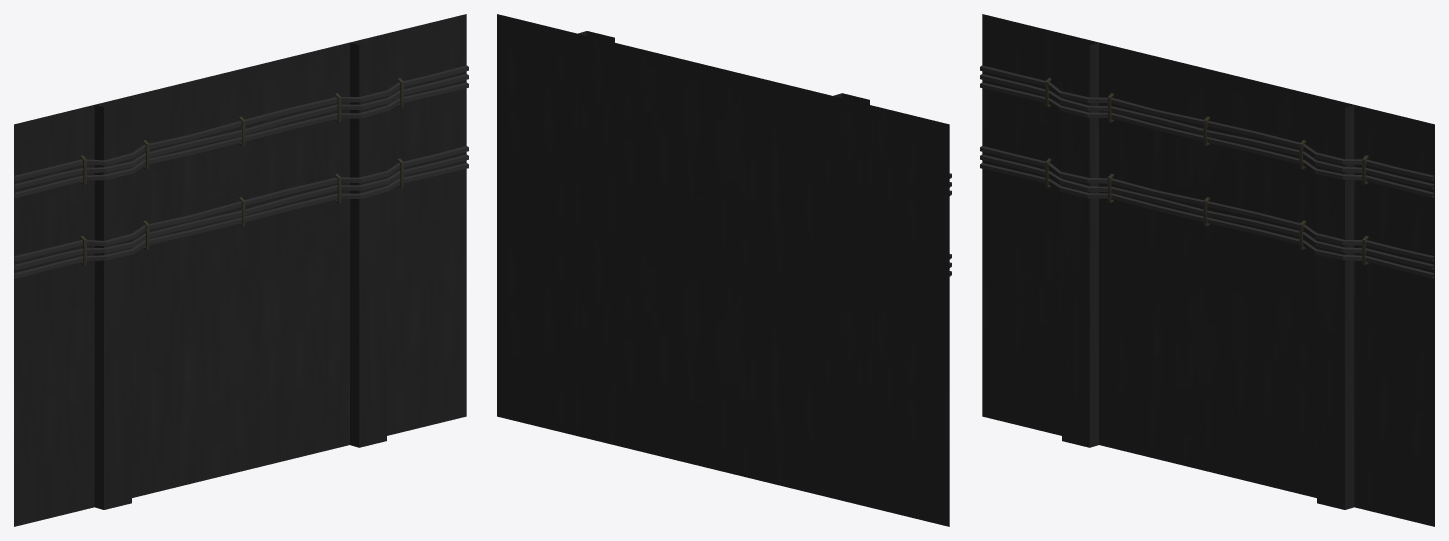
Rendered from SW_ENV_RailTunnelWall_B_01a_05m_FF.fbx.
The picture shows the model from 3 angles, left to right: view 1: azimuth 30°, elevation 25°; view 2: azimuth 150°, elevation 25°; view 3: azimuth 330°, elevation 25°; orthographic projection.
Parts seen in each view (by area): view 1: SW_ENV_RailTunnelWall_B_01a_05m_FF; view 2: SW_ENV_RailTunnelWall_B_01a_05m_FF; view 3: SW_ENV_RailTunnelWall_B_01a_05m_FF.
Boxes of the visible parts, x1,y1,x2,y2 form: SW_ENV_RailTunnelWall_B_01a_05m_FF: [14, 14, 468, 526]; SW_ENV_RailTunnelWall_B_01a_05m_FF: [497, 14, 951, 526]; SW_ENV_RailTunnelWall_B_01a_05m_FF: [980, 14, 1434, 526].
Size of the model in its own units: 500 by 425 by 14.88.
